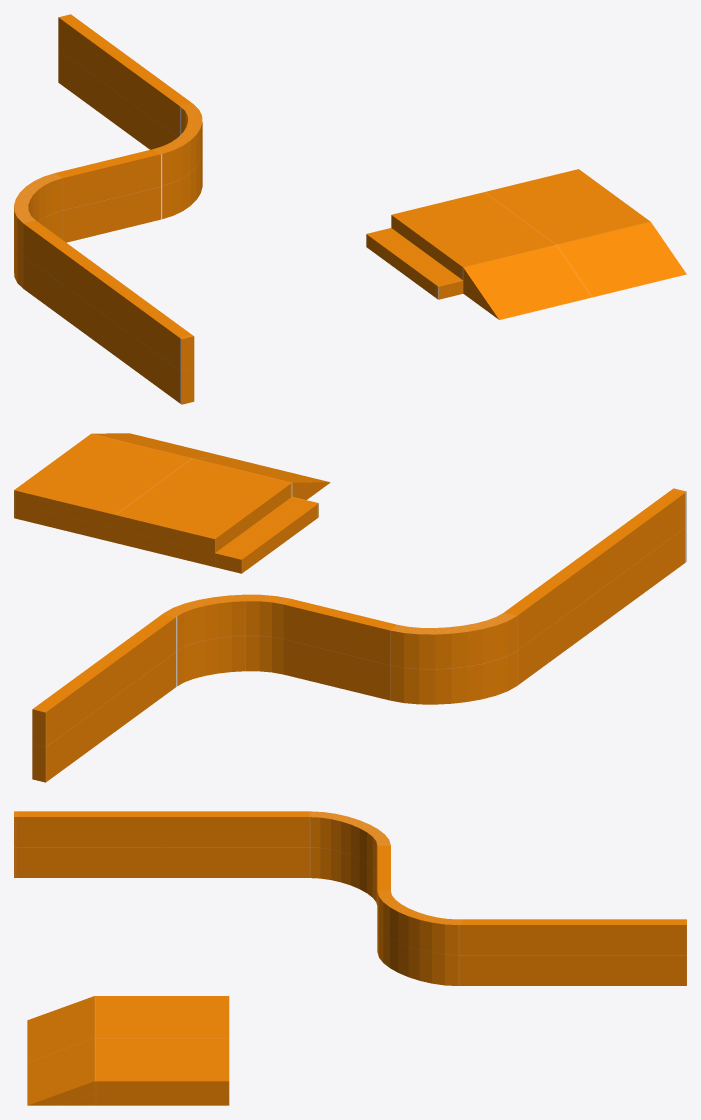
The model's file is level.glb.
The picture shows the model from 3 angles, top to bottom: view 1: azimuth 30°, elevation 25°; view 2: azimuth 150°, elevation 25°; view 3: azimuth 270°, elevation 25°; orthographic projection. The views are drawn at different scales.
Visible parts, largest first — view 1: Curvy wall, Platform, Ramp, Step up; view 2: Curvy wall, Platform, Step up, Ramp; view 3: Curvy wall, Platform, Ramp.
Part boxes in pixels (<box>): Curvy wall: <box>14,14,202,404</box>; Platform: <box>391,169,650,280</box>; Ramp: <box>463,222,686,319</box>; Step up: <box>366,228,463,299</box>; Curvy wall: <box>32,488,686,782</box>; Platform: <box>14,433,292,567</box>; Step up: <box>215,496,318,573</box>; Ramp: <box>92,433,330,499</box>; Curvy wall: <box>14,811,686,985</box>; Platform: <box>94,996,229,1105</box>; Ramp: <box>27,996,94,1105</box>.
Size of what is drawn, in the model's own units: 41 by 5 by 50.
Materials: 5 (5 with a texture image).
